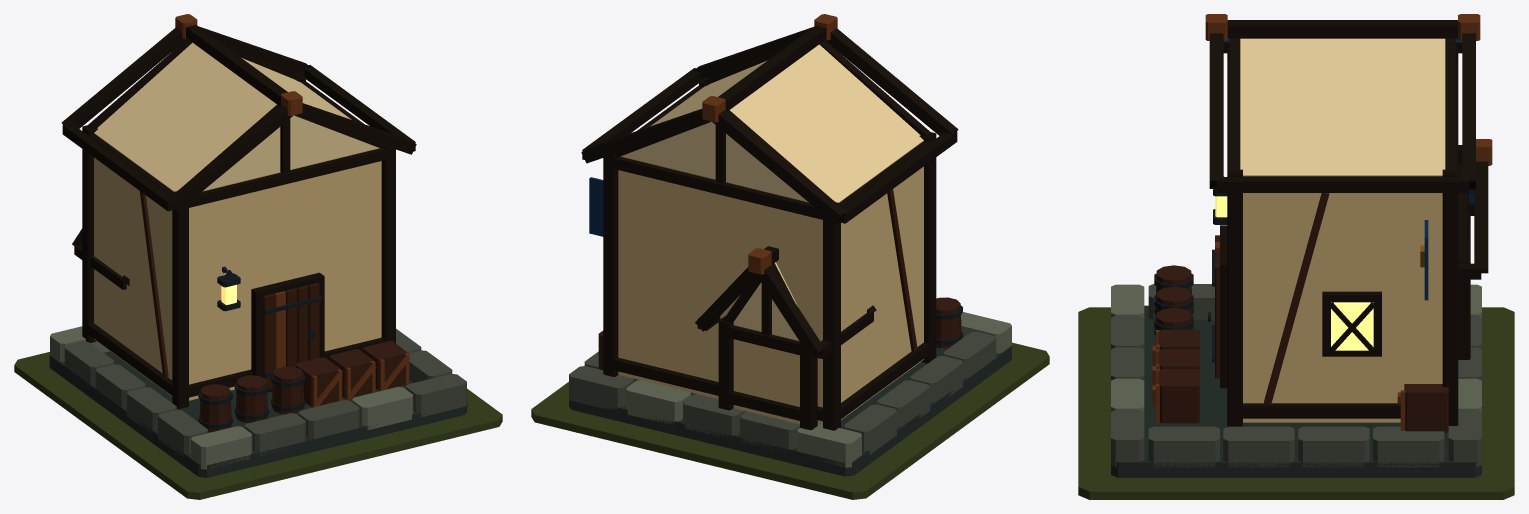
File: storehouse_t6.glb
The picture shows the model from 3 angles, left to right: view 1: azimuth 30°, elevation 25°; view 2: azimuth 150°, elevation 25°; view 3: azimuth 270°, elevation 25°; orthographic projection. The views are drawn at different scales.
Parts seen in each view (by area): view 1: MMR | storehouse | T06 Architecture.001, MMR | storehouse | Tier 06 Ground.001; view 2: MMR | storehouse | T06 Architecture.001, MMR | storehouse | Tier 06 Ground.001; view 3: MMR | storehouse | T06 Architecture.001, MMR | storehouse | Tier 06 Ground.001.
Part boxes in pixels (<box>): MMR | storehouse | T06 Architecture.001: <box>49,14,467,477</box>; MMR | storehouse | Tier 06 Ground.001: <box>14,352,502,499</box>; MMR | storehouse | T06 Architecture.001: <box>569,14,1011,476</box>; MMR | storehouse | Tier 06 Ground.001: <box>531,342,1049,499</box>; MMR | storehouse | T06 Architecture.001: <box>1111,14,1492,477</box>; MMR | storehouse | Tier 06 Ground.001: <box>1078,307,1514,499</box>.
Size of the model in its own units: 2.35 by 2.32 by 2.35.
Materials: 2 (1 with a texture image).
